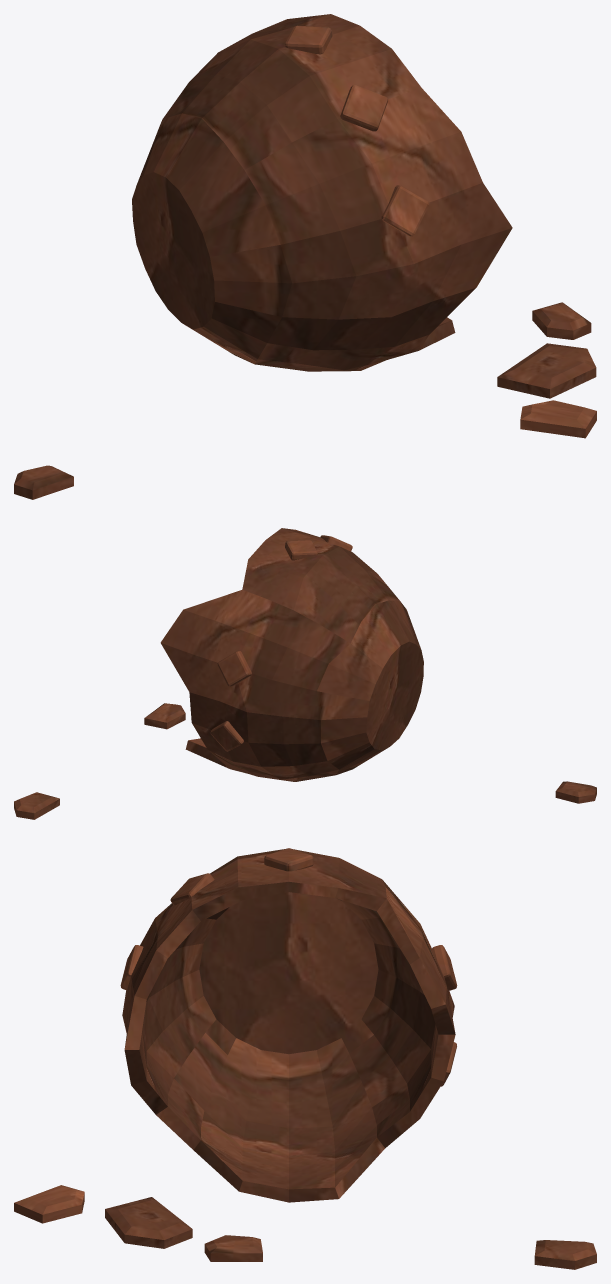
Rendered from junk_urn_broken_c.glb.
3 renders of one model, top to bottom at view 1: azimuth 30°, elevation 25°; view 2: azimuth 150°, elevation 25°; view 3: azimuth 270°, elevation 25°, orthographic. The views are drawn at different scales.
Visible parts, largest first — view 1: model; view 2: model; view 3: model.
Boxes of the visible parts, <box> form: model: <box>14,14,596,499</box>; model: <box>14,528,596,819</box>; model: <box>14,848,596,1269</box>.
Size of the model in its own units: 0.6073 by 0.3184 by 0.5418.
Materials: 3 (3 with a texture image).
